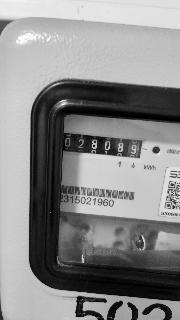1: (66, 138, 71, 147), (106, 142, 111, 151)
3: (79, 140, 84, 149)
9: (92, 140, 98, 149), (119, 143, 124, 152)
object: (132, 145, 137, 154)
